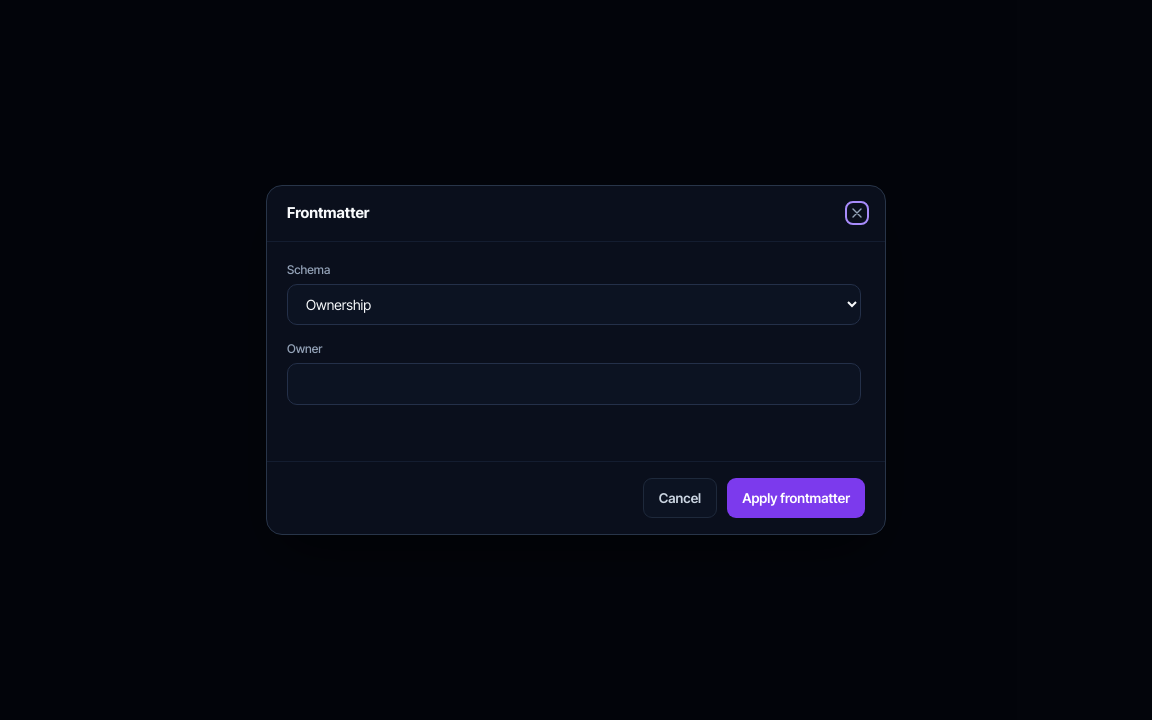
Test: FrontmatterSchemaDialog › shows validation without changing the document and hides management from viewers
Click the button "Apply frontmatter" at [796, 498], box [727,478,865,518]
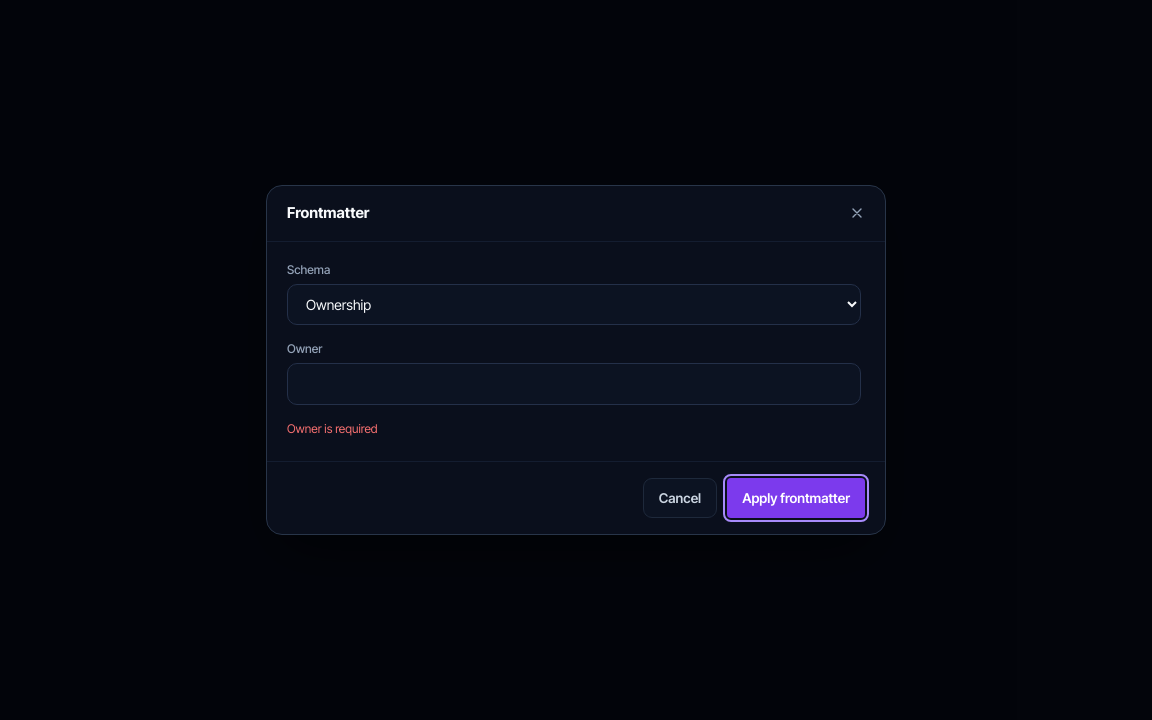
Expected: the text "Owner is required" is shown, [287,421,378,436]
